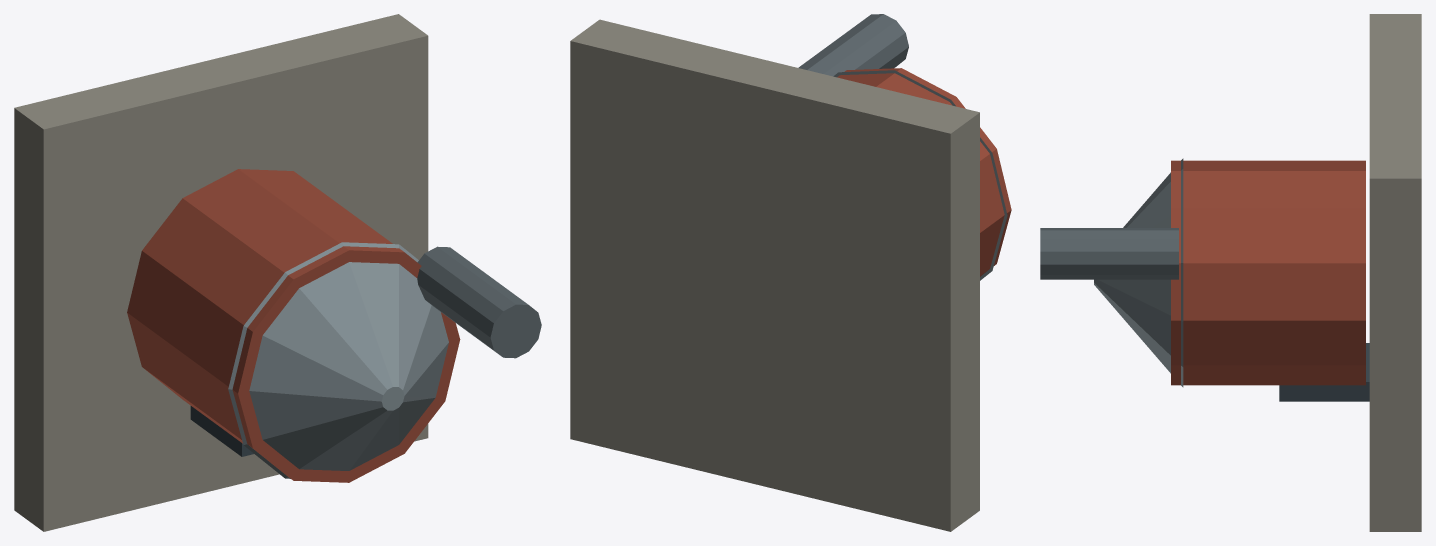
The model's file is calcifier.obj.
3 views of the same model, side by side, from view 1: azimuth 30°, elevation 25°; view 2: azimuth 150°, elevation 25°; view 3: azimuth 270°, elevation 25° (orthographic). The views are drawn at different scales.
Visible parts, largest first — view 1: calcifier_base, calcifier_kiln_drum, calcifier_mineral_hopper, calcifier_exhaust, calcifier_furnace_door; view 2: calcifier_base, calcifier_kiln_drum, calcifier_exhaust, calcifier_mineral_hopper; view 3: calcifier_kiln_drum, calcifier_base, calcifier_exhaust, calcifier_mineral_hopper, calcifier_furnace_door.
Boxes of the visible parts, box(x1,y1,x2,y2) form: calcifier_base: box(14, 14, 428, 531); calcifier_kiln_drum: box(127, 169, 460, 482); calcifier_mineral_hopper: box(228, 242, 448, 478); calcifier_exhaust: box(417, 246, 541, 358); calcifier_furnace_door: box(190, 406, 253, 456); calcifier_base: box(570, 19, 979, 531); calcifier_kiln_drum: box(837, 68, 1011, 276); calcifier_exhaust: box(798, 14, 908, 76); calcifier_mineral_hopper: box(833, 70, 1007, 280); calcifier_kiln_drum: box(1171, 160, 1365, 385); calcifier_base: box(1369, 14, 1421, 531); calcifier_exhaust: box(1040, 228, 1178, 279); calcifier_mineral_hopper: box(1094, 158, 1183, 387); calcifier_furnace_door: box(1279, 343, 1369, 401).
Bounding box in the file's own units: 2.7 × 2.7 × 2.64.
